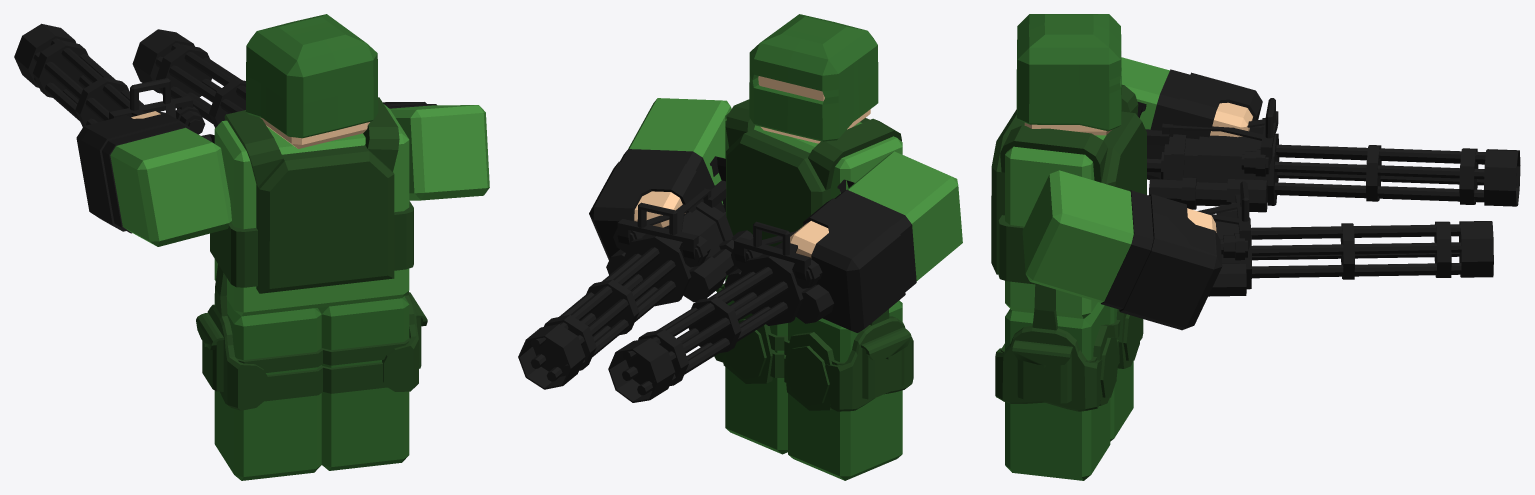
3 renders of one model, left to right at view 1: azimuth 30°, elevation 25°; view 2: azimuth 150°, elevation 25°; view 3: azimuth 270°, elevation 25°, orthographic. The views are drawn at different scales.
Parts seen in each view (by area): view 1: SWAT.Torso, SWAT.Legs, SWAT.Arm_L, SWAT.Arm_R; view 2: SWAT.Arm_L, SWAT.Arm_R, SWAT.Torso, SWAT.Legs; view 3: SWAT.Arm_R, SWAT.Arm_L, SWAT.Torso, SWAT.Legs.
Part boxes in pixels (x1=…): SWAT.Torso: x1=210, y1=14, x2=413, y2=316; SWAT.Legs: x1=196, y1=264, x2=427, y2=480; SWAT.Arm_L: x1=14, y1=23, x2=231, y2=246; SWAT.Arm_R: x1=132, y1=29, x2=489, y2=200; SWAT.Arm_L: x1=608, y1=151, x2=962, y2=402; SWAT.Arm_R: x1=518, y1=98, x2=753, y2=389; SWAT.Torso: x1=725, y1=14, x2=902, y2=246; SWAT.Legs: x1=714, y1=275, x2=913, y2=480; SWAT.Arm_R: x1=1022, y1=170, x2=1493, y2=330; SWAT.Arm_L: x1=1121, y1=57, x2=1520, y2=212; SWAT.Torso: x1=991, y1=14, x2=1146, y2=318; SWAT.Legs: x1=995, y1=284, x2=1143, y2=480.
Bounding box in the file's own units: 421 × 518 × 592.
